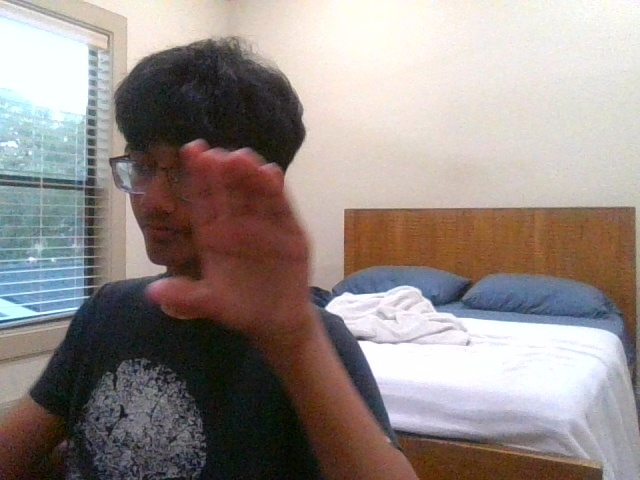no: (147, 140, 311, 329)
